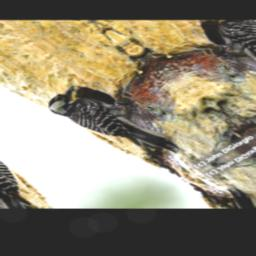Woodpecker: (38, 72, 197, 175)
